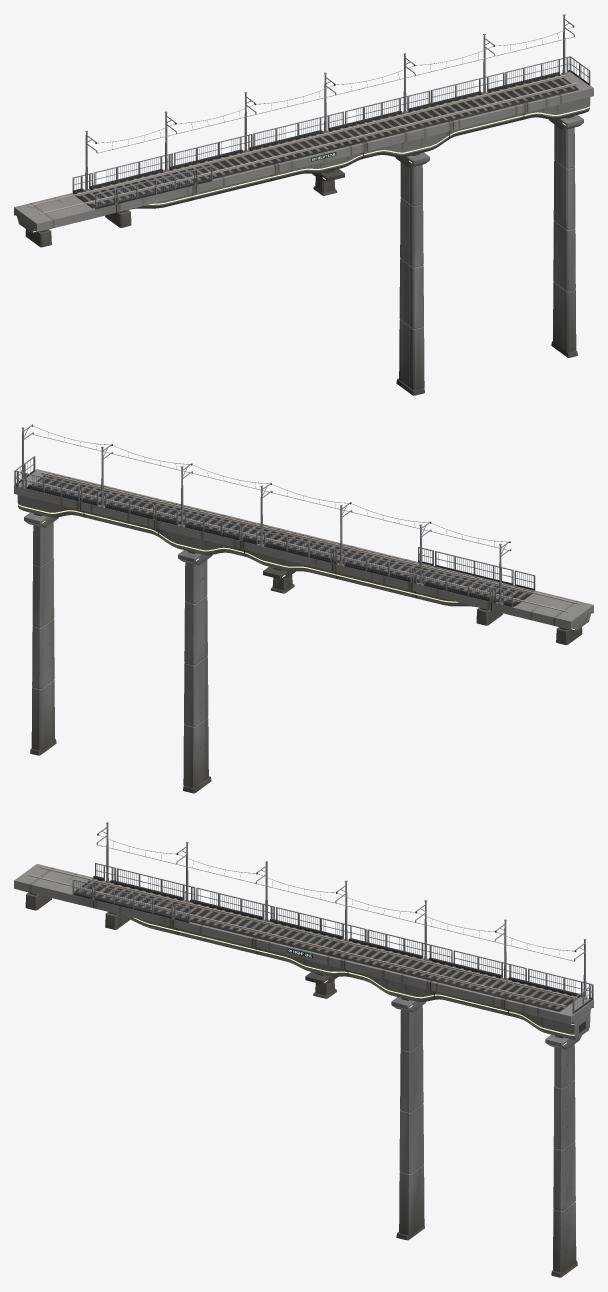
File: viaduct221.glb
3 renders of one model, top to bottom at view 1: azimuth 30°, elevation 25°; view 2: azimuth 150°, elevation 25°; view 3: azimuth 330°, elevation 25°, orthographic.
Visible parts, largest first — view 1: v221-concrete, v221-steel, v221-dark, v221-rail, v221-led; view 2: v221-concrete, v221-steel, v221-dark, v221-rail, v221-led; view 3: v221-concrete, v221-steel, v221-dark, v221-rail, v221-led.
Part boxes in pixels (x1,y1,x2,y2): v221-concrete: (14, 72, 593, 395); v221-steel: (41, 14, 590, 231); v221-dark: (40, 25, 588, 370); v221-rail: (28, 74, 577, 214); v221-led: (33, 106, 590, 232); v221-concrete: (14, 469, 593, 793); v221-steel: (14, 424, 565, 628); v221-dark: (15, 425, 567, 768); v221-rail: (30, 472, 579, 612); v221-led: (17, 504, 589, 629); v221-concrete: (14, 864, 593, 1277); v221-steel: (29, 822, 593, 1037); v221-dark: (29, 833, 592, 1252); v221-rail: (28, 866, 577, 1008); v221-led: (133, 917, 590, 1045).
Bounding box in the file's own units: 42 × 23.47 × 3.04.
